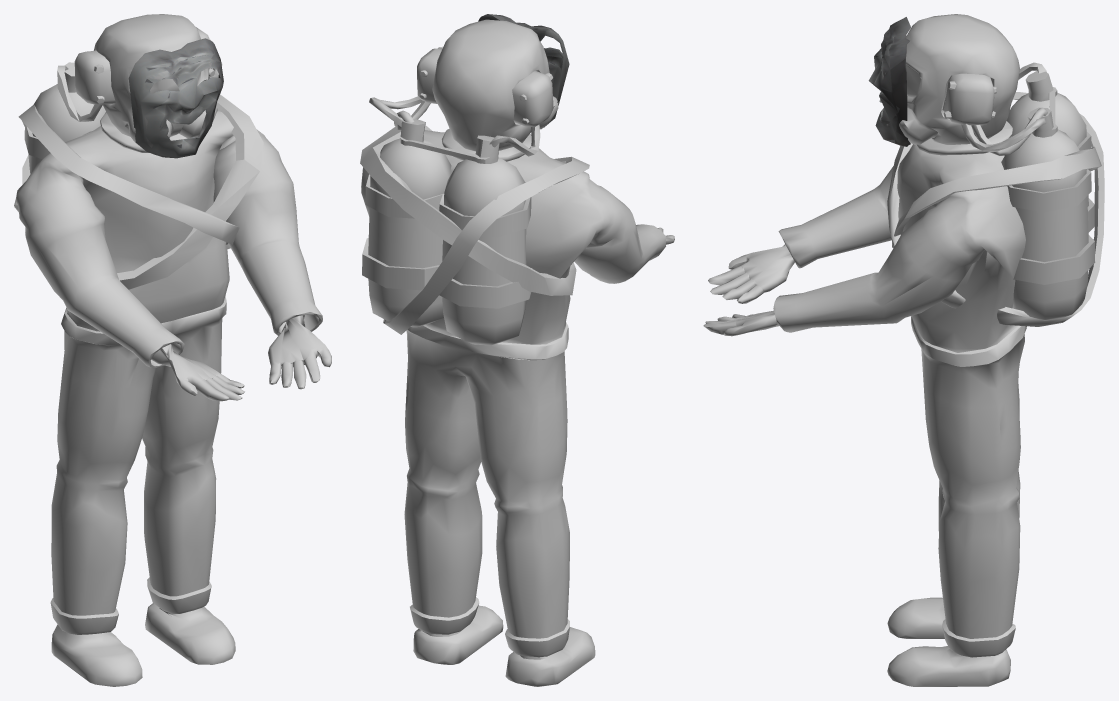
Rendered from SlayerPloosh.fbx.
The picture shows the model from 3 angles, left to right: view 1: azimuth 30°, elevation 25°; view 2: azimuth 150°, elevation 25°; view 3: azimuth 270°, elevation 25°; orthographic projection.
Visible parts, largest first — view 1: GreatAssMini; view 2: GreatAssMini; view 3: GreatAssMini.
Boxes of the visible parts, box(x1,y1,x2,y2) form: GreatAssMini: box(14, 14, 331, 686); GreatAssMini: box(360, 14, 674, 686); GreatAssMini: box(703, 14, 1104, 686).
Bounding box in the file's own units: 0.1488 × 0.3465 × 0.2.
